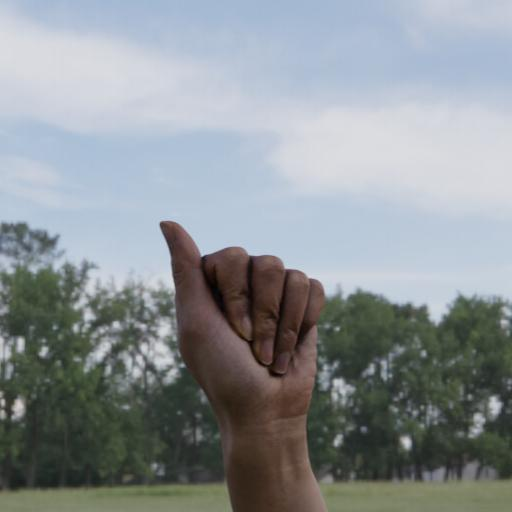A: (158, 218, 328, 420)
